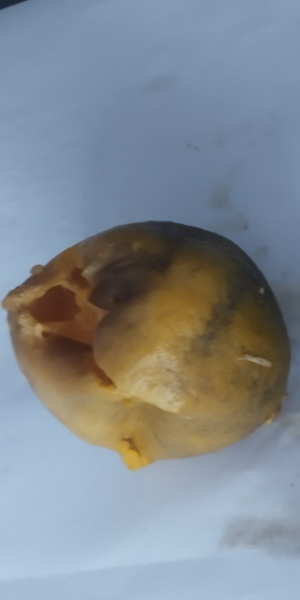BAD: (1, 230, 296, 457)
